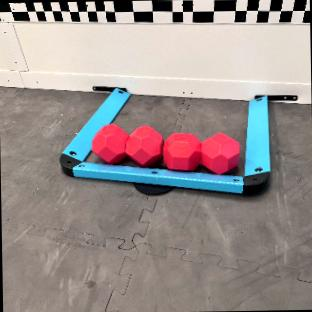V5_RED: (93, 124, 238, 172)
